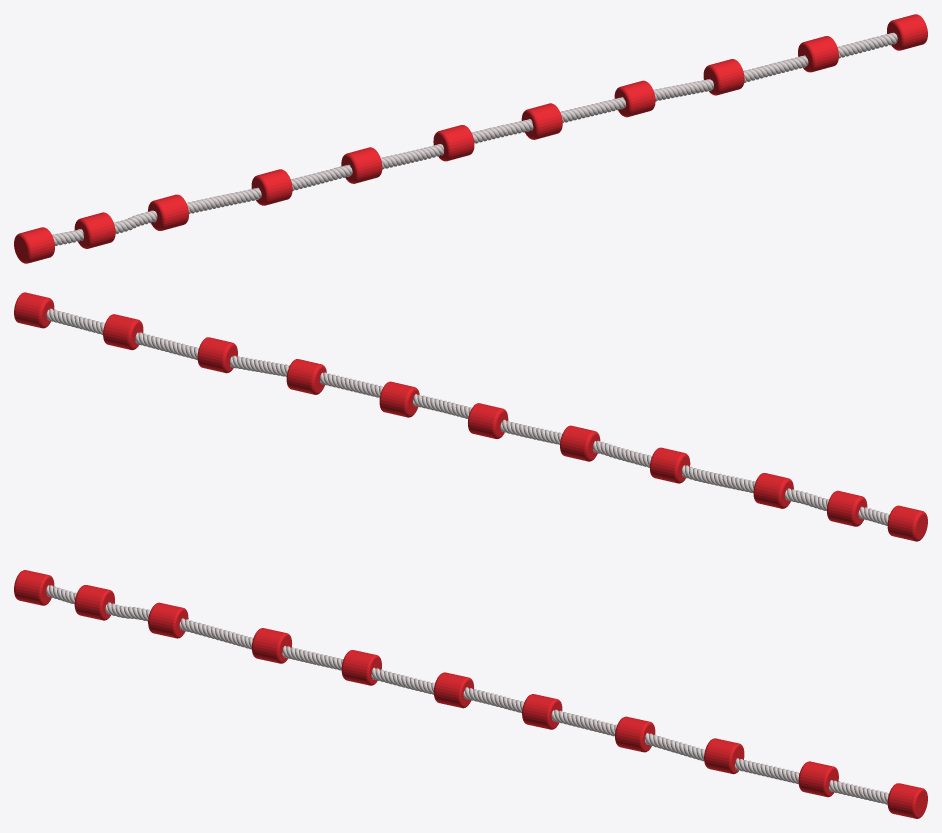
Rendered from bouyline 1.fbx.
The picture shows the model from 3 angles, top to bottom: view 1: azimuth 30°, elevation 25°; view 2: azimuth 150°, elevation 25°; view 3: azimuth 330°, elevation 25°; orthographic projection.
Parts seen in each view (by area): view 1: Circle, Cylinder.010, Cylinder.002, Cylinder.007, Cylinder, Cylinder.008, Cylinder.001, Cylinder.004, Cylinder.003, Cylinder.009, Cylinder.005, Cylinder.006; view 2: Circle, Cylinder.010, Cylinder.007, Cylinder.003, Cylinder.008, Cylinder.009, Cylinder.005, Cylinder.006, Cylinder.002, Cylinder.004, Cylinder, Cylinder.001; view 3: Circle, Cylinder.009, Cylinder.010, Cylinder.007, Cylinder.001, Cylinder.008, Cylinder, Cylinder.002, Cylinder.003, Cylinder.006, Cylinder.004, Cylinder.005.
Boxes of the visible parts, x1=… form: Circle: x1=52, y1=32, x2=897, y2=245; Cylinder.010: x1=14, y1=227, x2=54, y2=263; Cylinder.002: x1=251, y1=169, x2=292, y2=205; Cylinder.007: x1=703, y1=59, x2=744, y2=95; Cylinder: x1=74, y1=212, x2=115, y2=248; Cylinder.008: x1=798, y1=36, x2=838, y2=72; Cylinder.001: x1=148, y1=194, x2=188, y2=230; Cylinder.004: x1=433, y1=125, x2=474, y2=161; Cylinder.003: x1=341, y1=147, x2=382, y2=183; Cylinder.009: x1=887, y1=14, x2=927, y2=50; Cylinder.005: x1=521, y1=103, x2=562, y2=139; Cylinder.006: x1=614, y1=80, x2=655, y2=117; Circle: x1=46, y1=308, x2=889, y2=525; Cylinder.010: x1=887, y1=505, x2=927, y2=541; Cylinder.007: x1=197, y1=337, x2=237, y2=373; Cylinder.003: x1=560, y1=425, x2=600, y2=461; Cylinder.008: x1=103, y1=314, x2=143, y2=350; Cylinder.009: x1=14, y1=292, x2=54, y2=328; Cylinder.005: x1=379, y1=381, x2=419, y2=417; Cylinder.006: x1=286, y1=359, x2=326, y2=394; Cylinder.002: x1=649, y1=447, x2=690, y2=483; Cylinder.004: x1=468, y1=403, x2=508, y2=438; Cylinder: x1=827, y1=490, x2=867, y2=526; Cylinder.001: x1=753, y1=473, x2=793, y2=508; Circle: x1=46, y1=585, x2=888, y2=804; Cylinder.009: x1=887, y1=783, x2=927, y2=818; Cylinder.010: x1=14, y1=570, x2=54, y2=605; Cylinder.007: x1=704, y1=738, x2=744, y2=774; Cylinder.001: x1=148, y1=602, x2=188, y2=638; Cylinder.008: x1=798, y1=761, x2=838, y2=797; Cylinder: x1=74, y1=585, x2=114, y2=620; Cylinder.002: x1=251, y1=628, x2=292, y2=663; Cylinder.003: x1=341, y1=650, x2=381, y2=685; Cylinder.006: x1=615, y1=716, x2=655, y2=752; Cylinder.004: x1=433, y1=672, x2=473, y2=708; Cylinder.005: x1=522, y1=694, x2=562, y2=729.
Size of the model in its own units: 9931 by 302 by 309.
